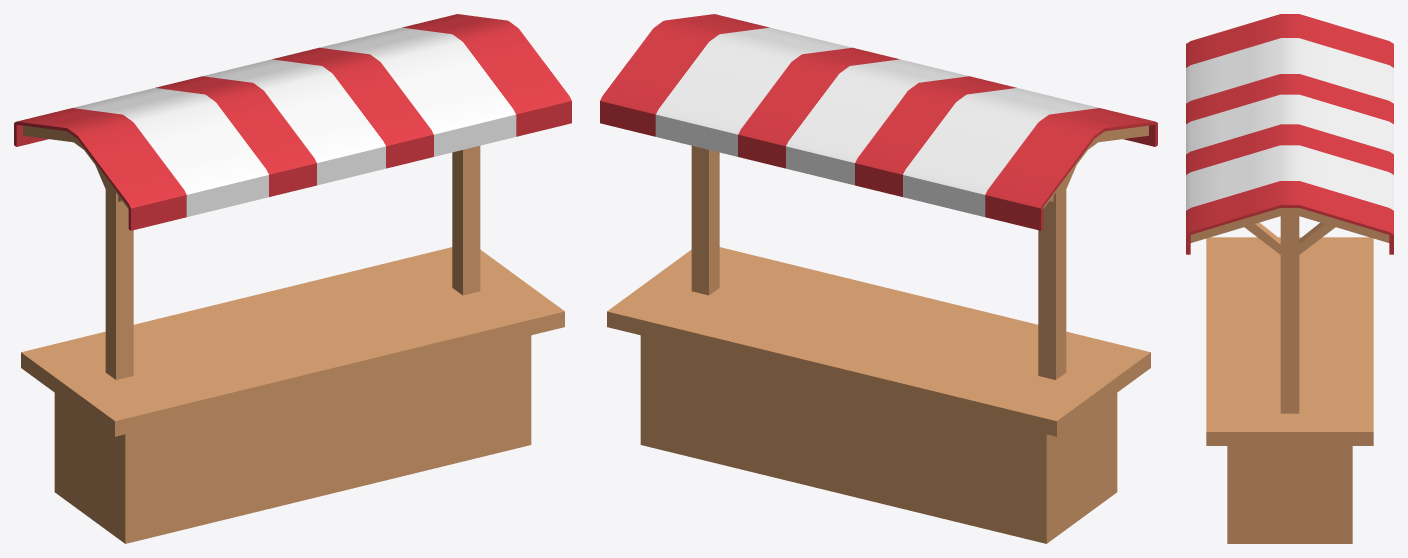
File: shop_stand.fbx
3 views of the same model, side by side, from view 1: azimuth 30°, elevation 25°; view 2: azimuth 150°, elevation 25°; view 3: azimuth 270°, elevation 25° (orthographic). The views are drawn at different scales.
Parts seen in each view (by area): view 1: shop_stand; view 2: shop_stand; view 3: shop_stand.
Boxes of the visible parts, <box> form: shop_stand: <box>14,14,571,543</box>; shop_stand: <box>600,14,1157,543</box>; shop_stand: <box>1186,14,1393,543</box>.
Bounding box in the file's own units: 233 × 193 × 105.
